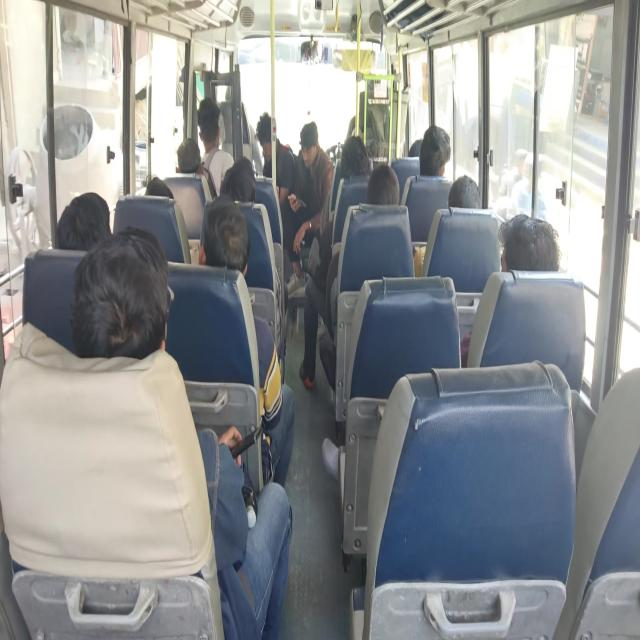person: (70, 226, 292, 638), (321, 163, 414, 482), (198, 195, 296, 489), (299, 135, 373, 389), (460, 212, 561, 366), (285, 120, 334, 292), (255, 111, 301, 282), (497, 212, 561, 272), (255, 111, 296, 204), (197, 97, 234, 197), (296, 121, 334, 211), (56, 190, 111, 250), (176, 137, 217, 200), (510, 152, 546, 218), (418, 124, 451, 177), (219, 156, 257, 202), (365, 163, 400, 205), (340, 134, 373, 178), (448, 174, 482, 209), (176, 137, 202, 174)
